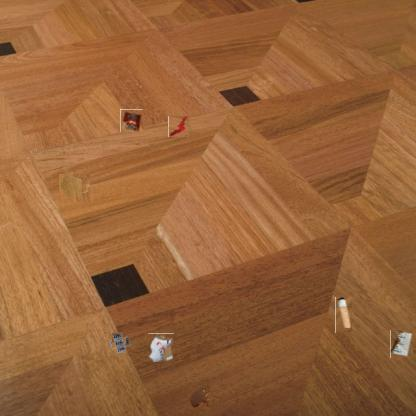dirty: (148, 333, 174, 362), (390, 330, 413, 358), (335, 298, 352, 334), (120, 109, 143, 132), (168, 115, 189, 137), (110, 334, 128, 352)
liquid: (59, 173, 89, 203), (188, 385, 210, 409)
